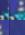recallP: (9, 0, 25, 20), (0, 0, 9, 20), (0, 20, 9, 35)
